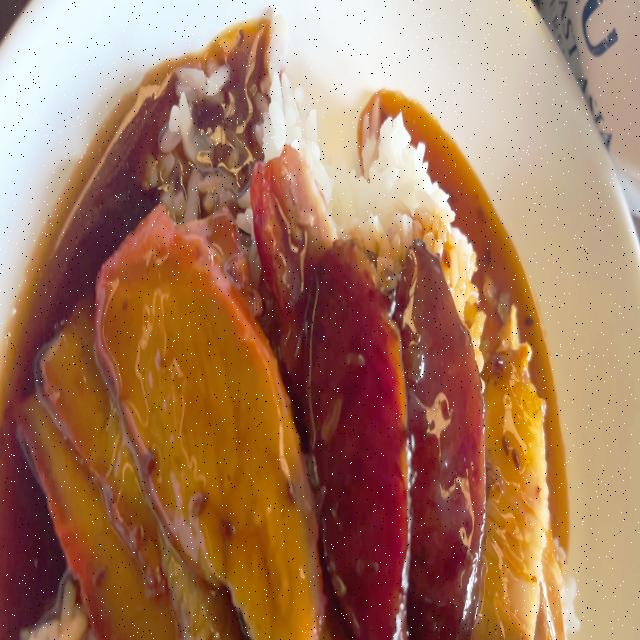chainese_sausage: (314, 227, 481, 640), (394, 247, 478, 626), (325, 240, 404, 630)
crispy_pork: (492, 293, 555, 640)
red_pork: (29, 206, 312, 640), (105, 196, 319, 617), (49, 307, 179, 609), (251, 130, 327, 345)
red_pork_and_crispy_pork: (1, 86, 576, 640)
rice: (154, 49, 468, 225)
